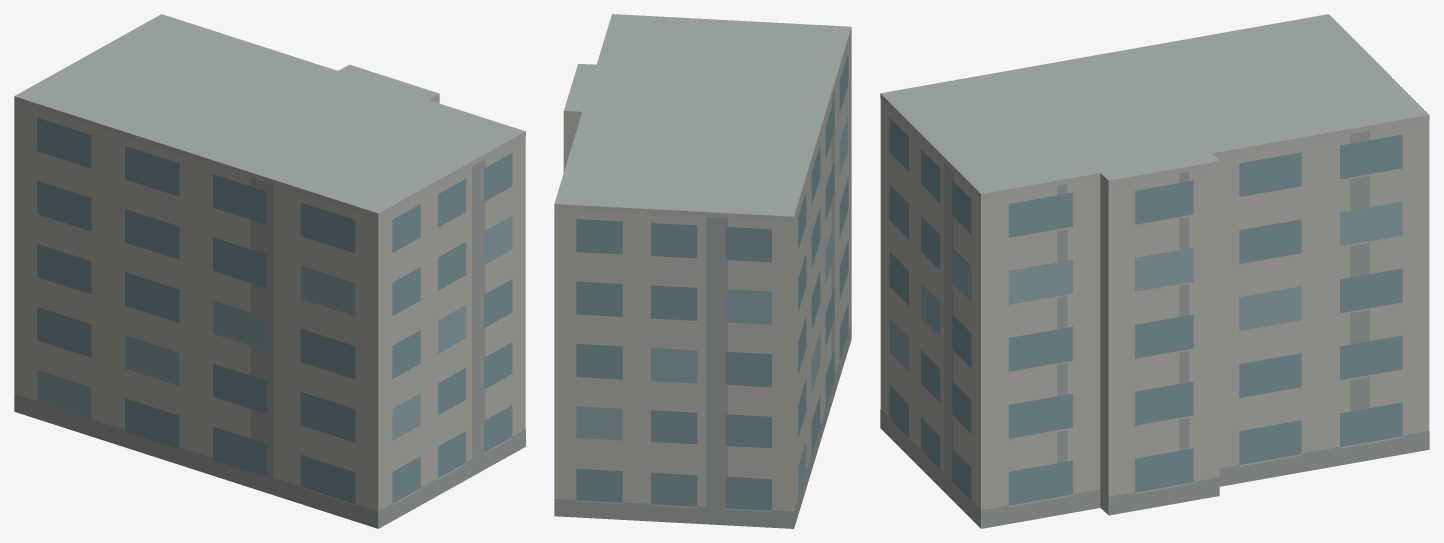
File: survey-upis-33022542.glb
3 views of the same model, side by side, from view 1: azimuth 30°, elevation 25°; view 2: azimuth 150°, elevation 25°; view 3: azimuth 270°, elevation 25° (orthographic). The views are drawn at different scales.
Parts seen in each view (by area): view 1: survey-upis-33022542.tmp; view 2: survey-upis-33022542.tmp; view 3: survey-upis-33022542.tmp.
Boxes of the visible parts, bbox=[...] form: survey-upis-33022542.tmp: bbox=[14, 14, 525, 528]; survey-upis-33022542.tmp: bbox=[554, 14, 851, 528]; survey-upis-33022542.tmp: bbox=[880, 14, 1429, 528].
Size of the model in its own units: 17.37 by 15.05 by 22.38.
